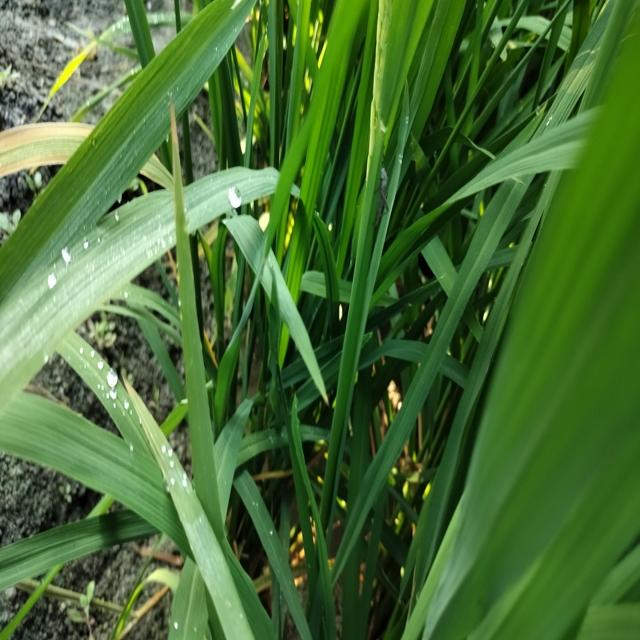Brown spot: (0, 120, 113, 183)
